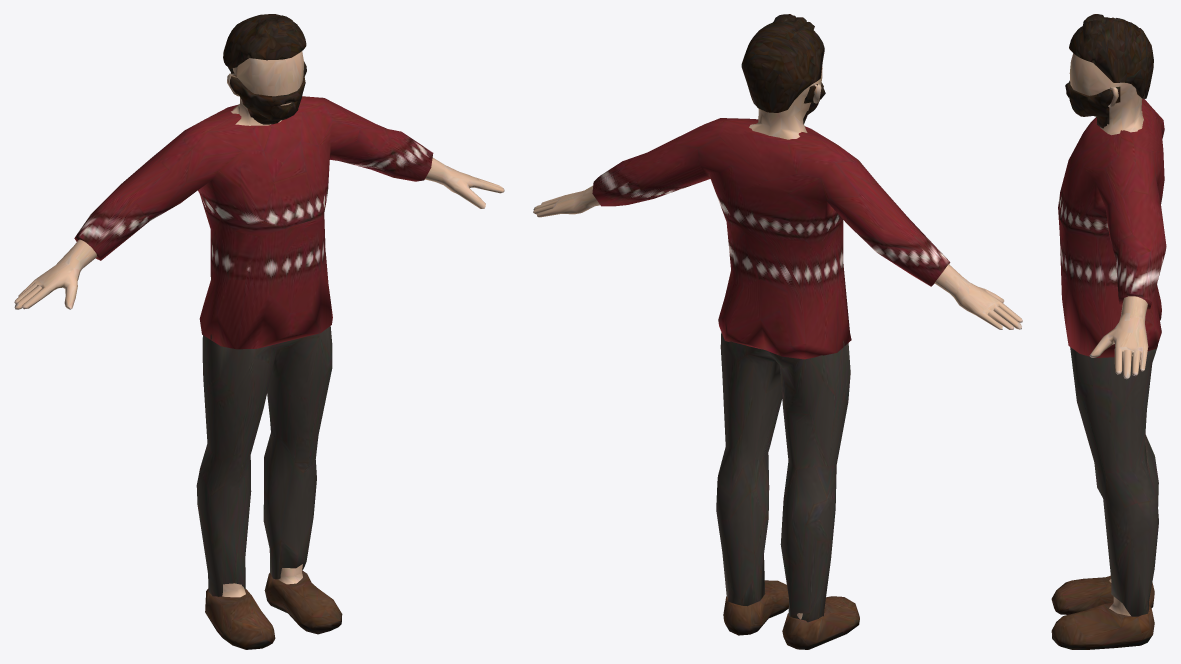
File: npc_x_man2.glb
3 views of the same model, side by side, from view 1: azimuth 30°, elevation 25°; view 2: azimuth 150°, elevation 25°; view 3: azimuth 270°, elevation 25° (orthographic).
Parts seen in each view (by area): view 1: Human; view 2: Human; view 3: Human.
Part boxes in pixels (bbox=[...]): Human: bbox=[14, 14, 504, 649]; Human: bbox=[533, 14, 1022, 649]; Human: bbox=[1051, 14, 1166, 649].
Bounding box in the file's own units: 1.54 × 1.83 × 0.3136.
1 material, 1 textured.
